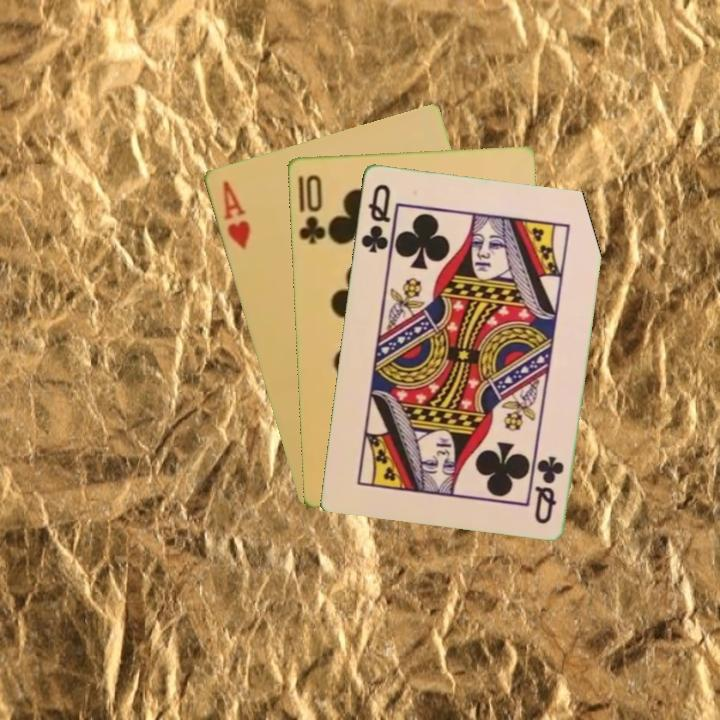10c: (295, 170, 328, 247)
Ah: (218, 177, 253, 252)
Qc: (530, 451, 567, 526), (357, 180, 393, 255)
